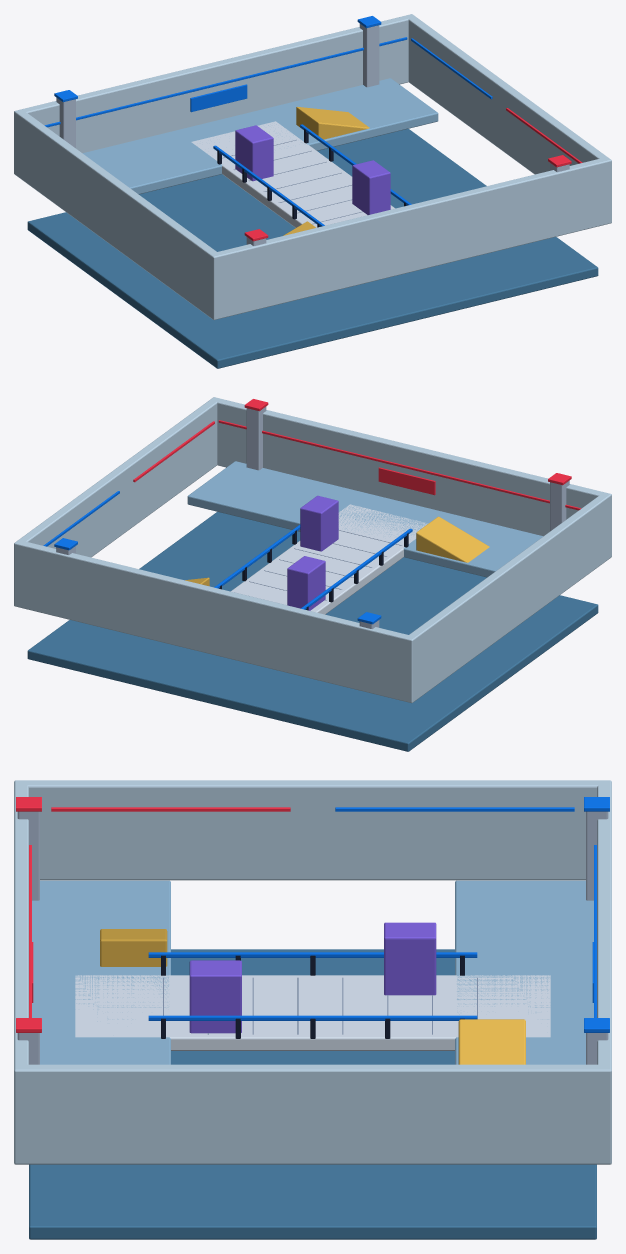
Rendered from Ponte.glb.
3 renders of one model, top to bottom at view 1: azimuth 30°, elevation 25°; view 2: azimuth 150°, elevation 25°; view 3: azimuth 270°, elevation 25°, orthographic. The views are drawn at different scales.
Parts seen in each view (by area): view 1: Ponte_PB_bfd9ed, Ponte_PB_457da5, Ponte_PB_8db9db, Ponte_PB_d9e6f6, Ponte_PB_087bff, Ponte_PB_8064e8, Ponte_PB_b5c6df, Ponte_PB_ebbc4d, Ponte_PB_ff304b; view 2: Ponte_PB_bfd9ed, Ponte_PB_457da5, Ponte_PB_8db9db, Ponte_PB_d9e6f6, Ponte_PB_8064e8, Ponte_PB_ff304b, Ponte_PB_ebbc4d, Ponte_PB_b5c6df, Ponte_PB_087bff; view 3: Ponte_PB_bfd9ed, Ponte_PB_457da5, Ponte_PB_8db9db, Ponte_PB_d9e6f6, Ponte_PB_8064e8, Ponte_PB_087bff, Ponte_PB_ebbc4d, Ponte_PB_b5c6df, Ponte_PB_ff304b, Ponte_PB_17213a.
Part boxes in pixels (x1=…): Ponte_PB_bfd9ed: x1=14, y1=14, x2=611, y2=320; Ponte_PB_457da5: x1=27, y1=129, x2=598, y2=368; Ponte_PB_8db9db: x1=83, y1=78, x2=438, y2=194; Ponte_PB_d9e6f6: x1=191, y1=121, x2=395, y2=227; Ponte_PB_087bff: x1=44, y1=16, x2=492, y2=226; Ponte_PB_8064e8: x1=235, y1=125, x2=390, y2=214; Ponte_PB_b5c6df: x1=56, y1=23, x2=569, y2=245; Ponte_PB_ebbc4d: x1=283, y1=106, x2=369, y2=235; Ponte_PB_ff304b: x1=244, y1=108, x2=582, y2=241; Ponte_PB_bfd9ed: x1=14, y1=397, x2=611, y2=703; Ponte_PB_457da5: x1=27, y1=512, x2=598, y2=751; Ponte_PB_8db9db: x1=187, y1=461, x2=542, y2=577; Ponte_PB_d9e6f6: x1=230, y1=504, x2=428, y2=614; Ponte_PB_8064e8: x1=287, y1=495, x2=338, y2=610; Ponte_PB_ff304b: x1=133, y1=399, x2=581, y2=510; Ponte_PB_ebbc4d: x1=185, y1=516, x2=489, y2=586; Ponte_PB_b5c6df: x1=56, y1=406, x2=569, y2=628; Ponte_PB_087bff: x1=43, y1=491, x2=412, y2=624; Ponte_PB_bfd9ed: x1=14, y1=780, x2=611, y2=1164; Ponte_PB_457da5: x1=29, y1=949, x2=596, y2=1239; Ponte_PB_8db9db: x1=32, y1=880, x2=593, y2=1064; Ponte_PB_d9e6f6: x1=75, y1=975, x2=550, y2=1050; Ponte_PB_8064e8: x1=189, y1=922, x2=436, y2=1033; Ponte_PB_087bff: x1=148, y1=797, x2=609, y2=1032; Ponte_PB_ebbc4d: x1=100, y1=929, x2=525, y2=1064; Ponte_PB_b5c6df: x1=17, y1=811, x2=608, y2=1064; Ponte_PB_ff304b: x1=16, y1=797, x2=290, y2=1032; Ponte_PB_17213a: x1=161, y1=955, x2=464, y2=1038.
Size of the model in its own units: 25.76 by 7.78 by 22.4.
